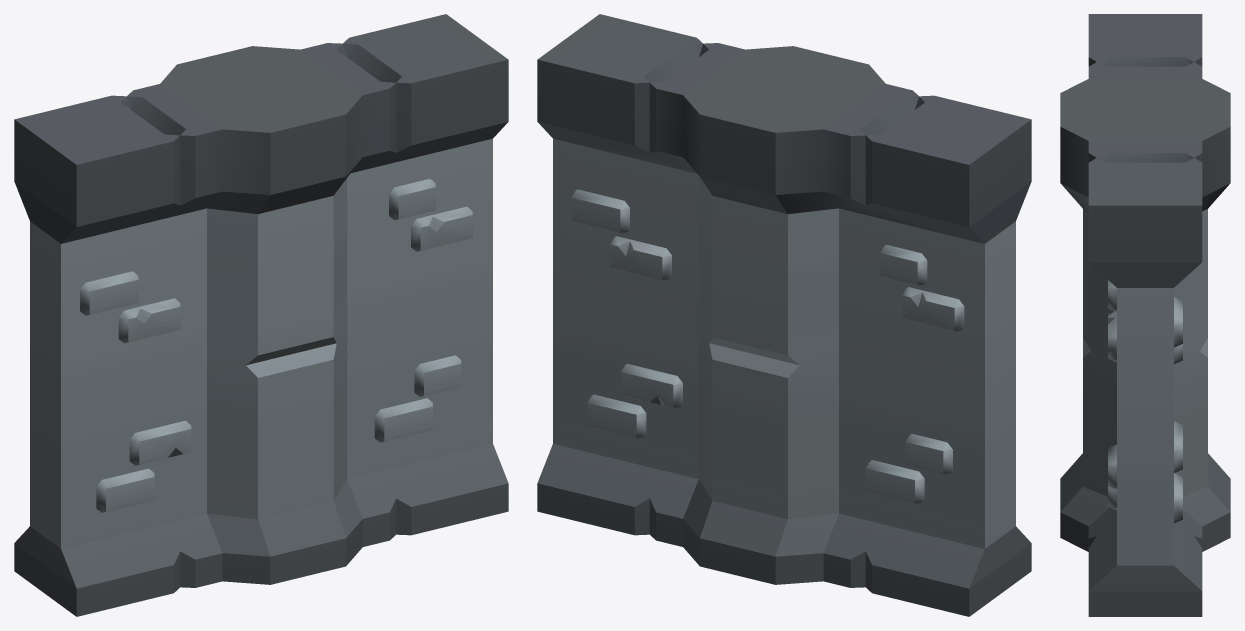
File: wall_pillar.glb
The picture shows the model from 3 angles, left to right: view 1: azimuth 30°, elevation 25°; view 2: azimuth 150°, elevation 25°; view 3: azimuth 270°, elevation 25°; orthographic projection. The views are drawn at different scales.
Parts seen in each view (by area): view 1: wall_pillar; view 2: wall_pillar; view 3: wall_pillar.
Boxes of the visible parts, x1,y1,x2,y2 form: wall_pillar: (14, 14, 508, 616); wall_pillar: (537, 14, 1031, 616); wall_pillar: (1060, 14, 1230, 616).
Bounding box in the file's own units: 4 × 4 × 1.5.
1 material, 1 textured.
